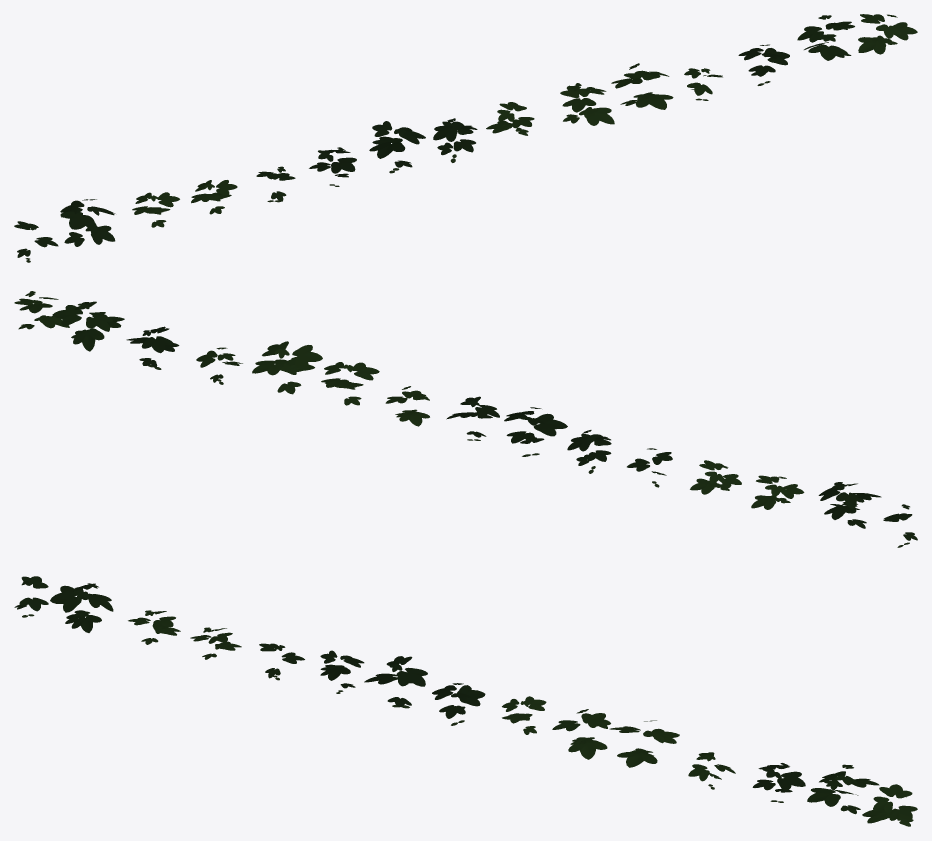
Rendered from ROW_10_SEG1_foliage.dae.
3 renders of one model, top to bottom at view 1: azimuth 30°, elevation 25°; view 2: azimuth 150°, elevation 25°; view 3: azimuth 330°, elevation 25°, orthographic.
Parts seen in each view (by area): view 1: ROW_10_SEG1_foliage; view 2: ROW_10_SEG1_foliage; view 3: ROW_10_SEG1_foliage.
Part boxes in pixels (bbox=[...]): ROW_10_SEG1_foliage: bbox=[14, 14, 917, 262]; ROW_10_SEG1_foliage: bbox=[14, 291, 917, 547]; ROW_10_SEG1_foliage: bbox=[14, 576, 917, 826].
Size of the model in its own units: 4.42 by 0.329 by 0.2396.
